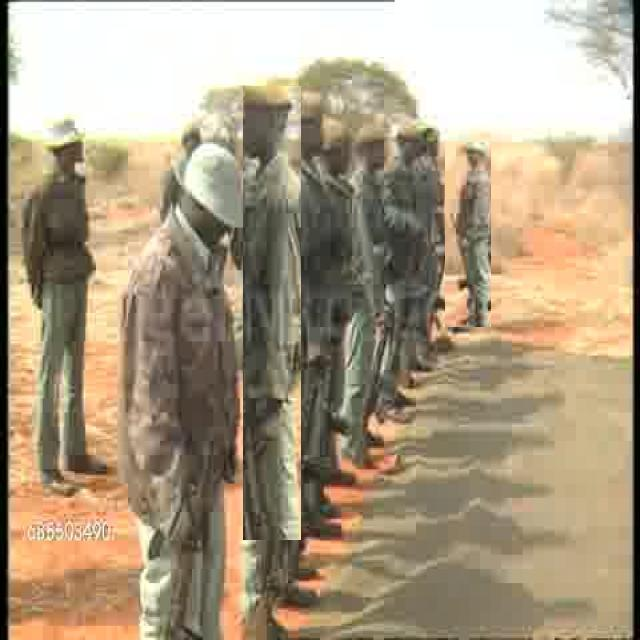poacher: (112, 132, 255, 622), (2, 101, 110, 498), (243, 86, 301, 540), (300, 100, 332, 440), (353, 132, 384, 462), (445, 141, 491, 327), (392, 130, 419, 403)
